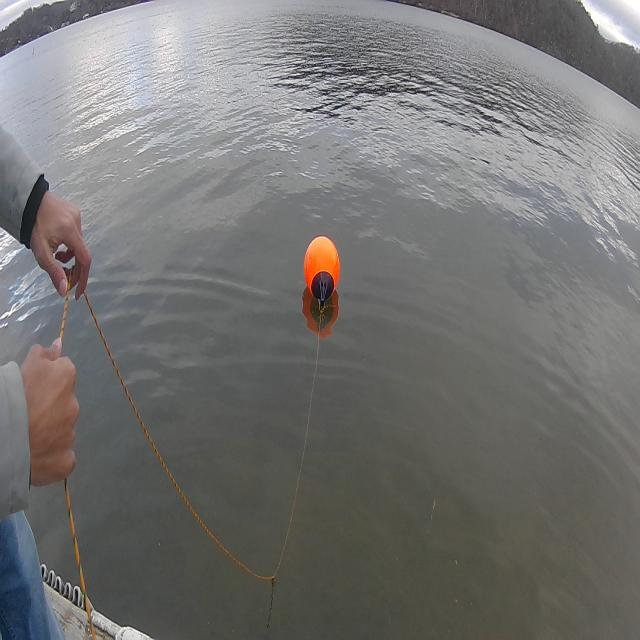Buoy: (302, 230, 342, 312)
